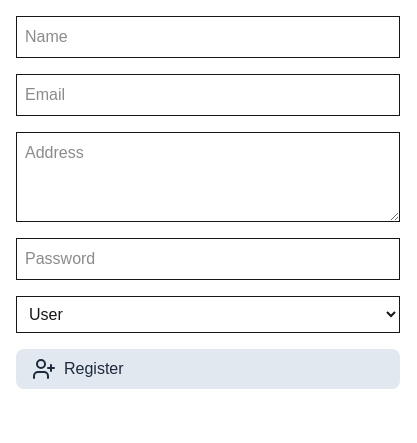
Test case: RegisterForm › submits form and shows success message
Step 1. Type "Alice" into the field with placeholder "Name" → (208, 37), box 16,16 -> 400,58
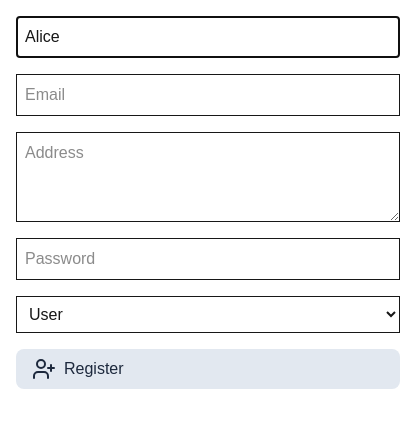
Step 2. Type "alice@example.com" into the field with placeholder "Email" → (208, 95), box 16,74 -> 400,116
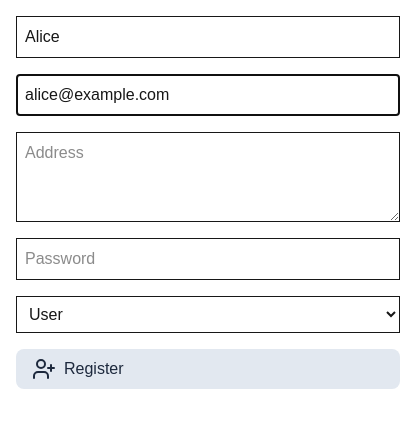
Step 3. Type "123 Main St" into the text box with placeholder "Address" → (208, 177), box 16,132 -> 400,222
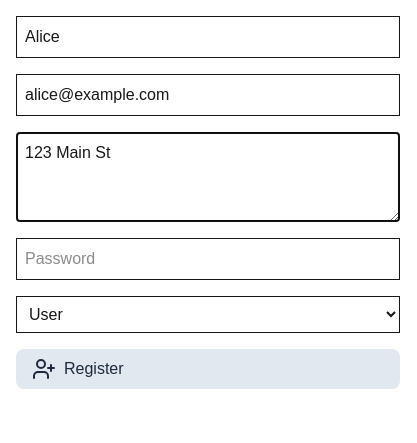
Step 4. Type "s3cret" into the password field with placeholder "Password" → (208, 259), box 16,238 -> 400,280
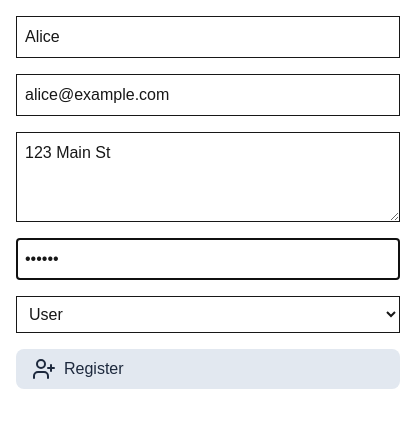
Step 5. Select "Admin" in the dropdown → (208, 314), box 16,296 -> 400,333
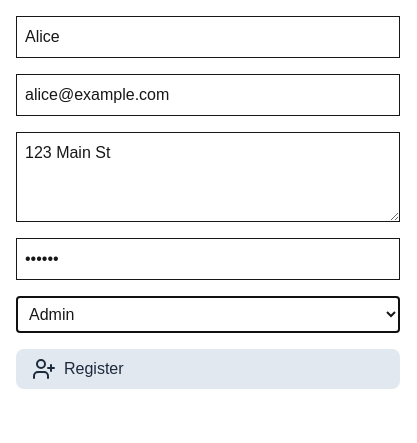
Step 6. Click the button "Register" → (94, 368), box 16,349 -> 400,389
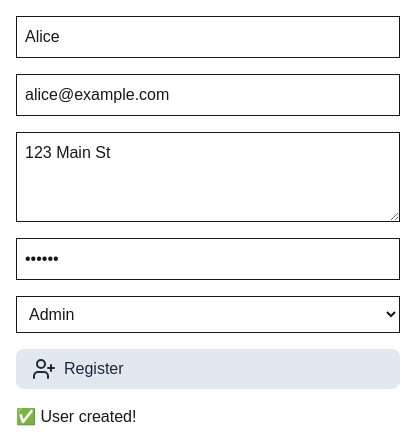
Result: the text "✅ User created!" is shown at 16,408 -> 136,425
